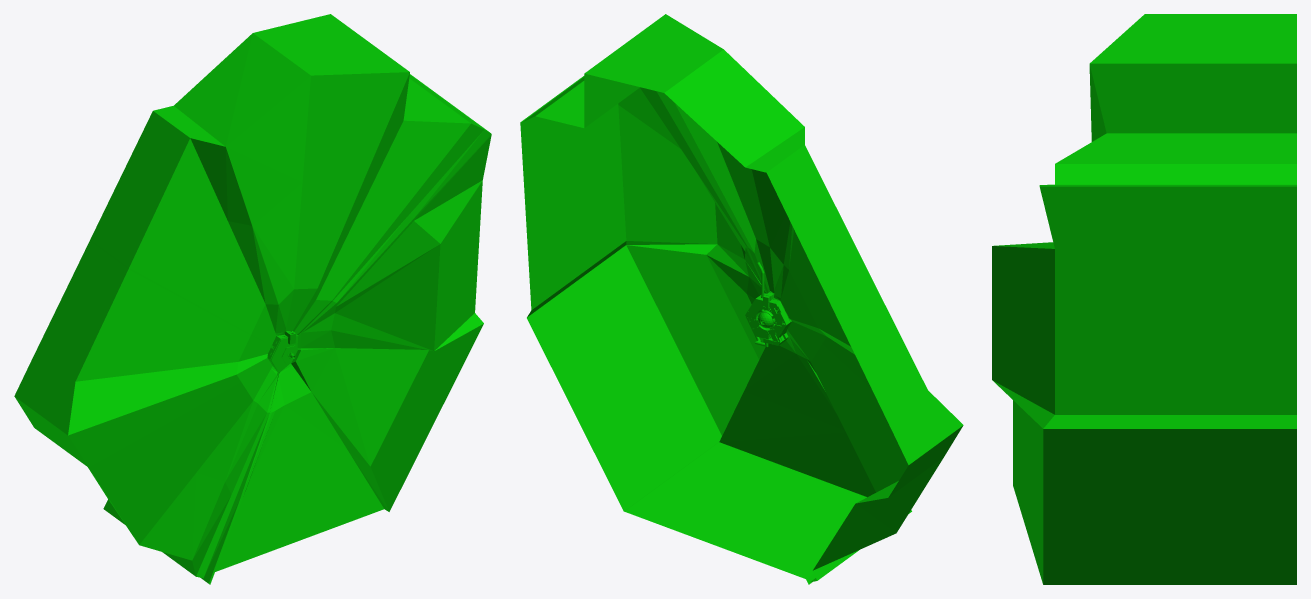
The model's file is final_0002_dec.obj.
3 renders of one model, left to right at view 1: azimuth 30°, elevation 25°; view 2: azimuth 150°, elevation 25°; view 3: azimuth 270°, elevation 25°, orthographic. The views are drawn at different scales.
Visible parts, largest first — view 1: Object.058_Brep_019f3785-9111-4e60-9592-9edfd0a38bc6.049; view 2: Object.058_Brep_019f3785-9111-4e60-9592-9edfd0a38bc6.049; view 3: Object.058_Brep_019f3785-9111-4e60-9592-9edfd0a38bc6.049.
Boxes of the visible parts, box(x1,y1,x2,y2) form: Object.058_Brep_019f3785-9111-4e60-9592-9edfd0a38bc6.049: box(14, 14, 491, 584); Object.058_Brep_019f3785-9111-4e60-9592-9edfd0a38bc6.049: box(520, 14, 963, 584); Object.058_Brep_019f3785-9111-4e60-9592-9edfd0a38bc6.049: box(992, 14, 1296, 584).
Bounding box in the file's own units: 6554 × 7364 × 3496.
